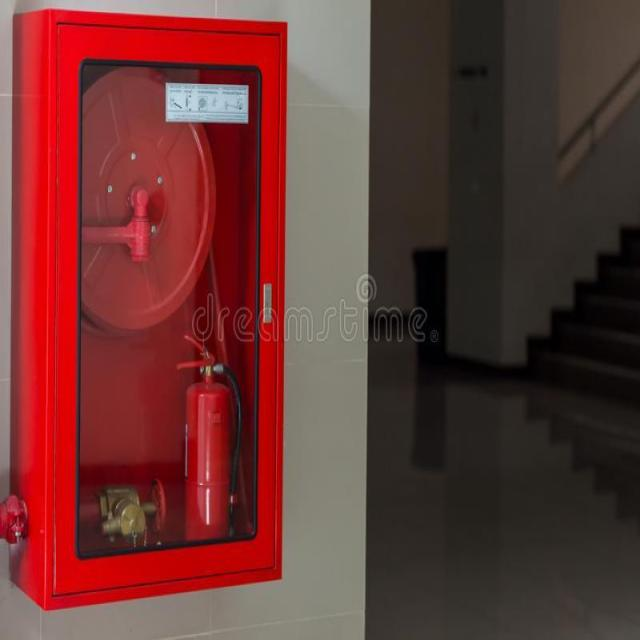fire_extinguisher: (171, 330, 242, 558)
